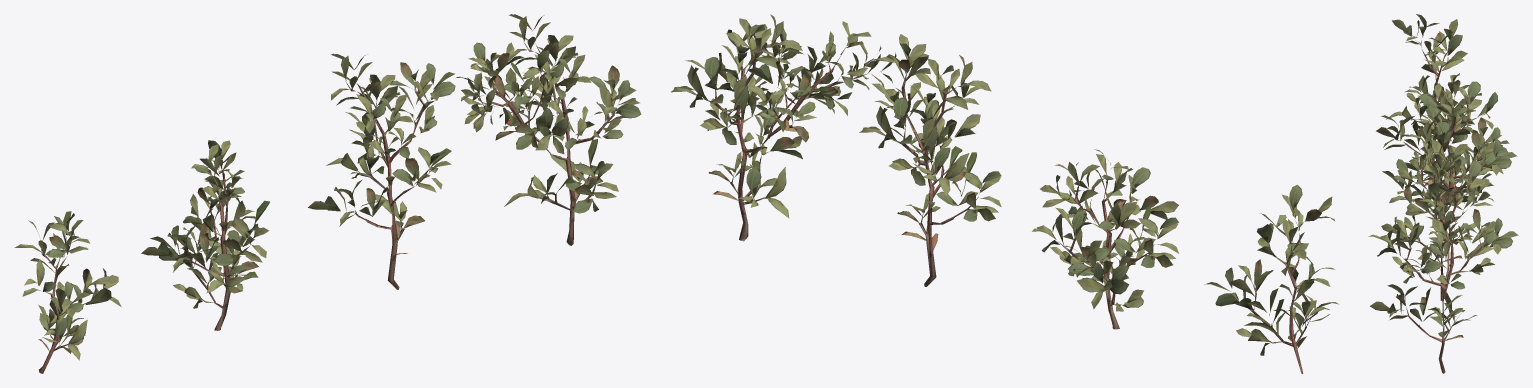
Rendered from shrub_04.glb.
3 renders of one model, left to right at view 1: azimuth 30°, elevation 25°; view 2: azimuth 150°, elevation 25°; view 3: azimuth 270°, elevation 25°, orthographic. The views are drawn at different scales.
Visible parts, largest first — view 1: shrub_04; view 2: shrub_04; view 3: shrub_04.
Boxes of the visible parts, box(x1,y1,x2,y2) form: shrub_04: box(14, 14, 641, 373); shrub_04: box(671, 14, 1338, 373); shrub_04: box(1368, 14, 1518, 373).
Bounding box in the file's own units: 0.5837 × 0.2192 × 0.1461.
Materials: 1 (1 with a texture image).
